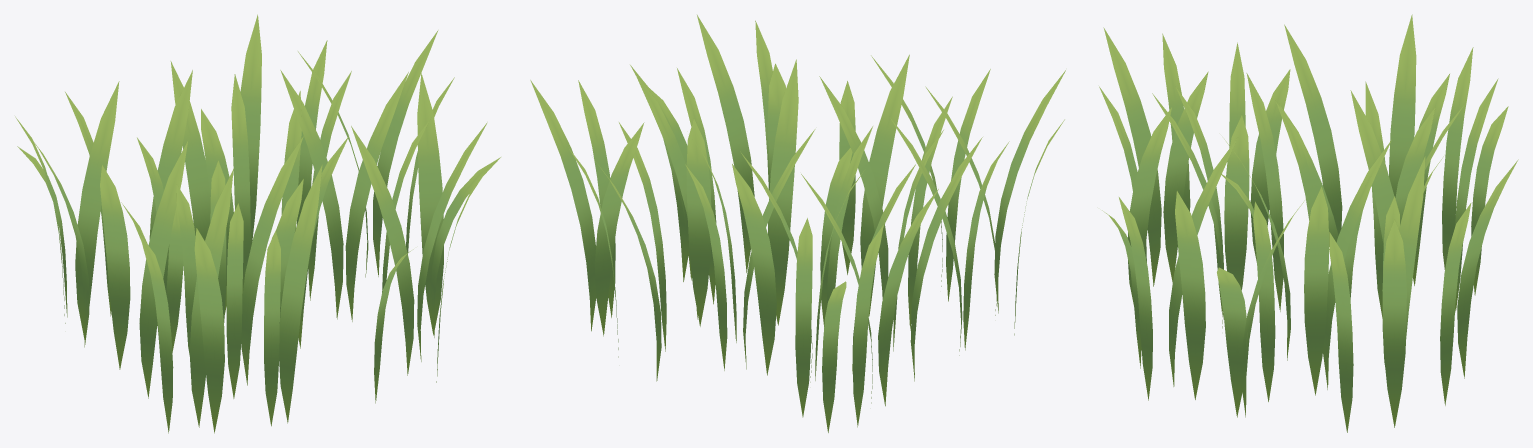
Rendered from SM_grass_pure.fbx.
3 views of the same model, side by side, from view 1: azimuth 30°, elevation 25°; view 2: azimuth 150°, elevation 25°; view 3: azimuth 270°, elevation 25° (orthographic). The views are drawn at different scales.
Parts seen in each view (by area): view 1: SM_grass_pure; view 2: SM_grass_pure; view 3: SM_grass_pure.
Part boxes in pixels (x1,y1,x2,y2): SM_grass_pure: (15, 14, 500, 433); SM_grass_pure: (530, 15, 1065, 432); SM_grass_pure: (1099, 14, 1518, 432).
Bounding box in the file's own units: 149 × 82.15 × 129.
